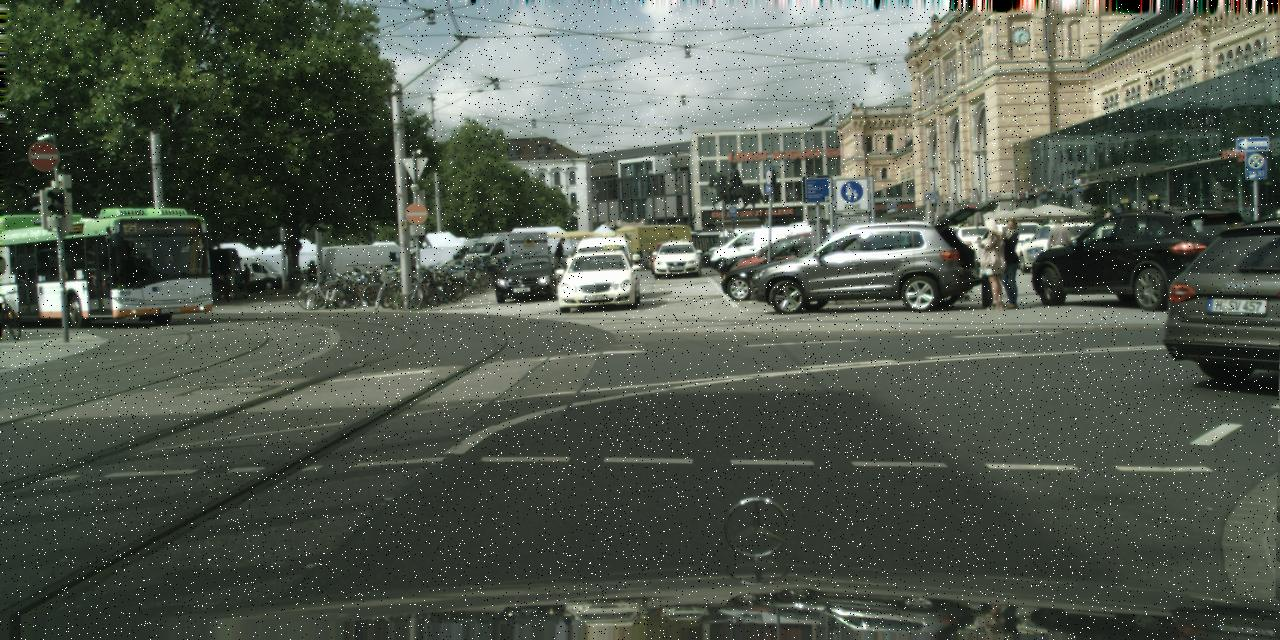ped: (993, 215, 1030, 308), (974, 218, 1010, 308), (1046, 220, 1071, 280), (554, 237, 568, 272), (303, 260, 317, 286), (240, 263, 250, 289)
